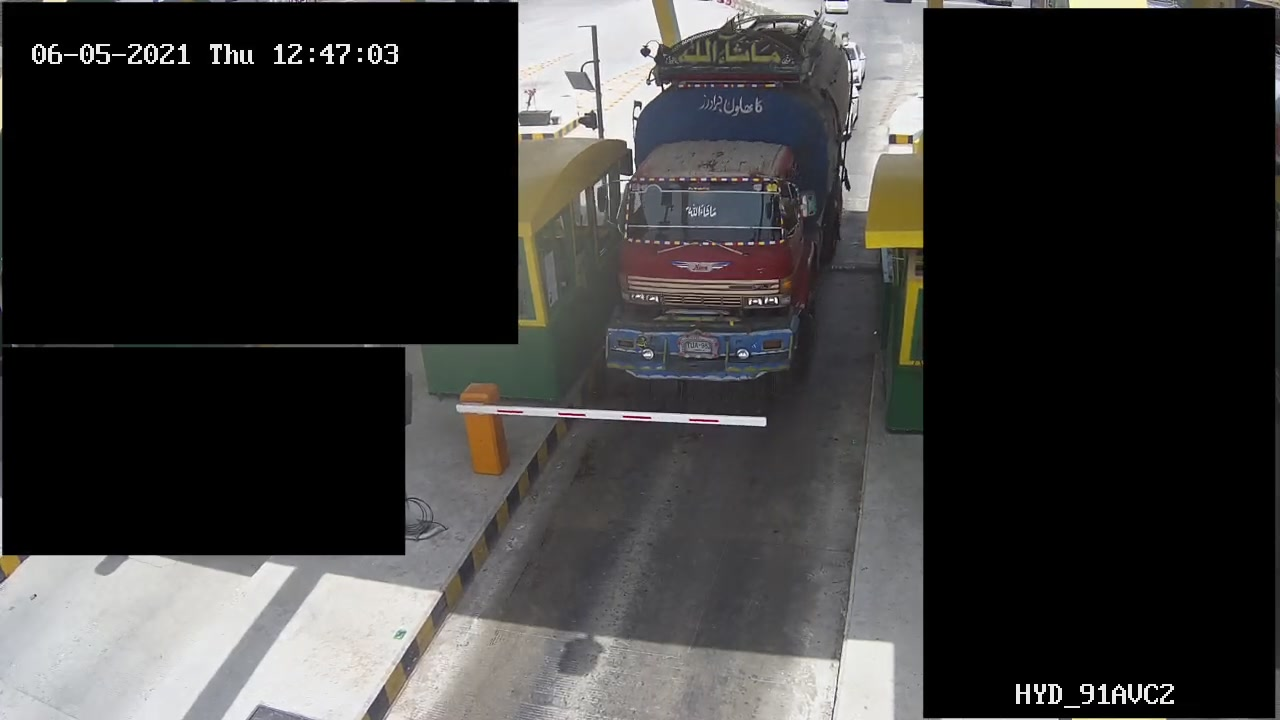F5: (606, 17, 856, 392)
